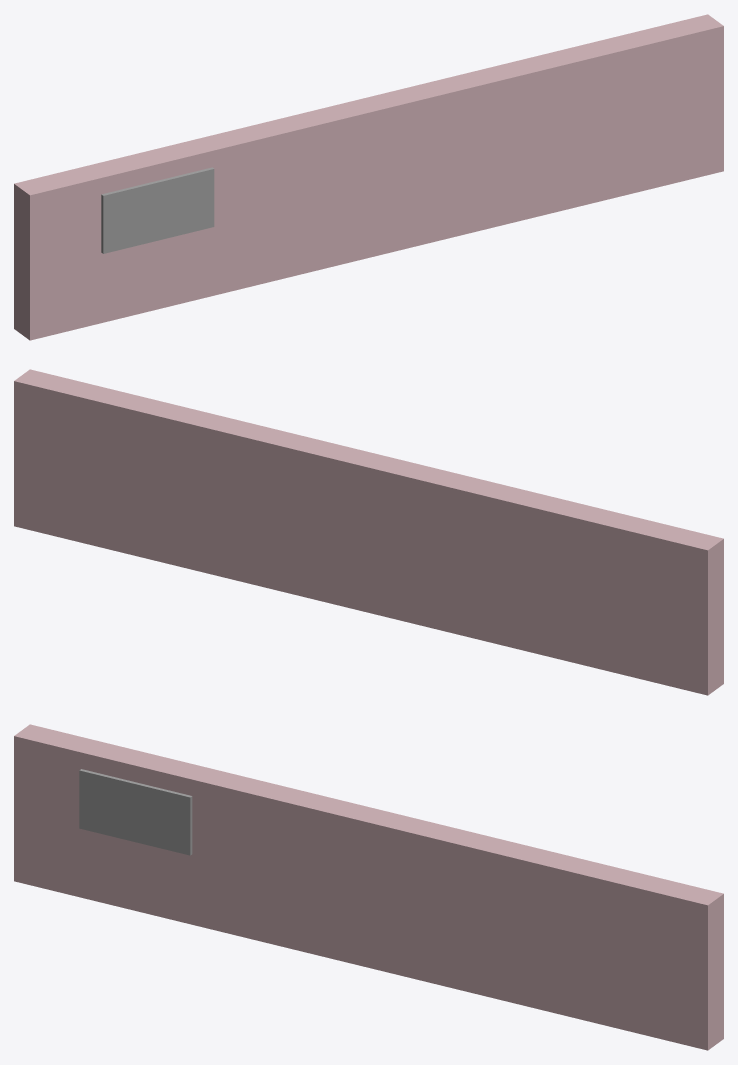
File: board.glb
The picture shows the model from 3 angles, top to bottom: view 1: azimuth 30°, elevation 25°; view 2: azimuth 150°, elevation 25°; view 3: azimuth 330°, elevation 25°; orthographic projection.
Visible parts, largest first — view 1: Substrate_Layer_0, Component_Adder0; view 2: Substrate_Layer_0; view 3: Substrate_Layer_0, Component_Adder0.
Part boxes in pixels (left/top/right/bottom): Substrate_Layer_0: left=14, top=14, right=723, bottom=340; Component_Adder0: left=101, top=167, right=214, bottom=253; Substrate_Layer_0: left=14, top=369, right=723, bottom=695; Substrate_Layer_0: left=14, top=724, right=723, bottom=1050; Component_Adder0: left=79, top=769, right=192, bottom=855.
Bounding box in the file's own units: 0.05 × 0.01 × 0.0025.
